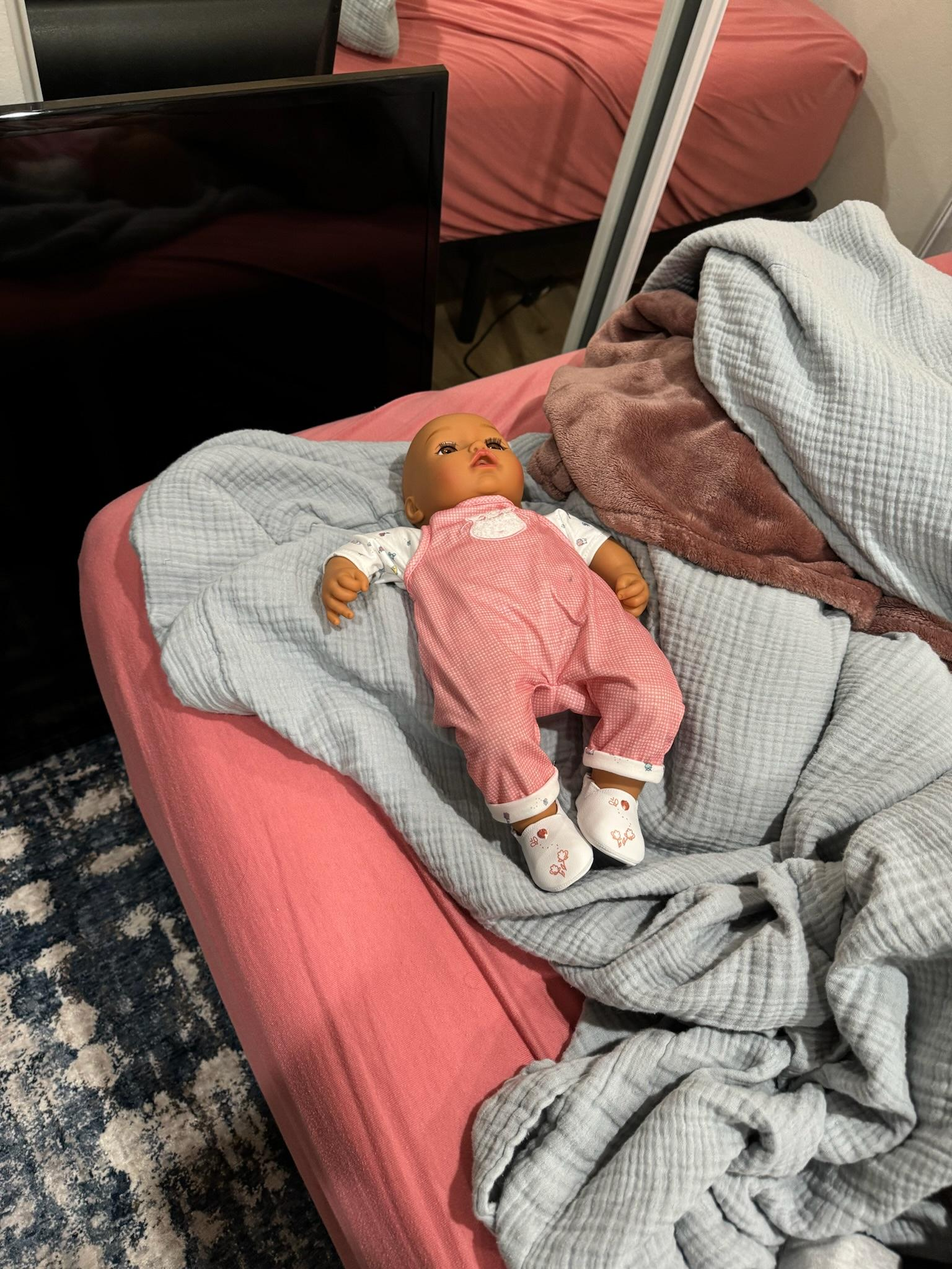baby: (306, 394, 682, 921)
